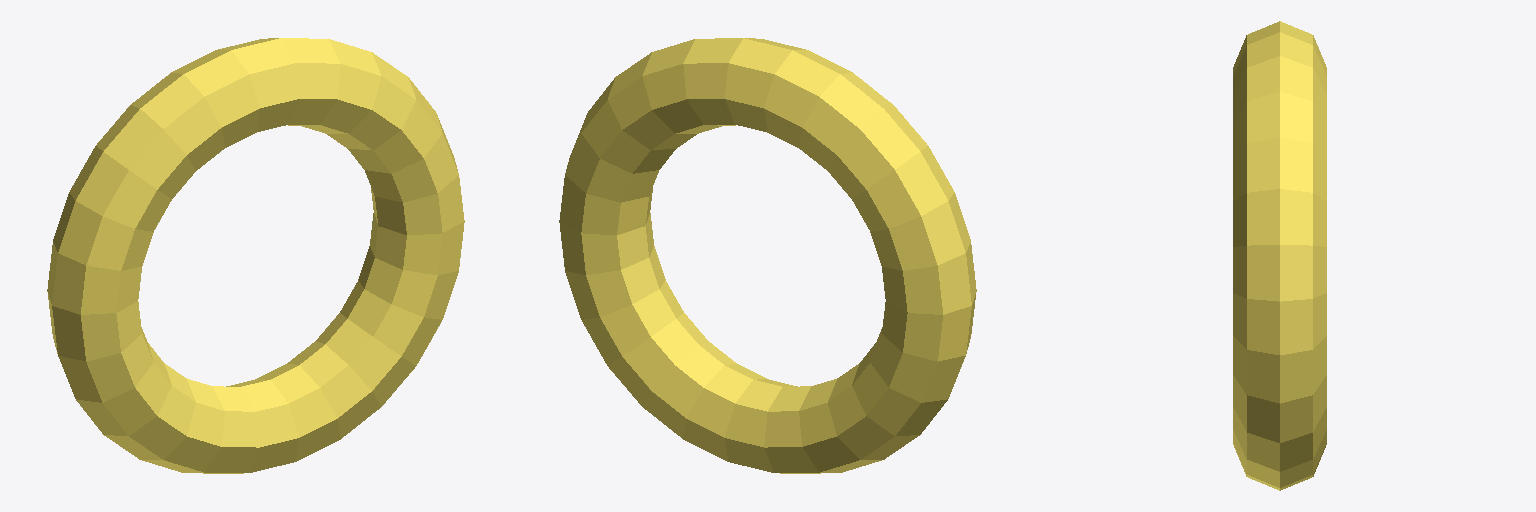
3 renders of one model, left to right at view 1: azimuth 30°, elevation 25°; view 2: azimuth 150°, elevation 25°; view 3: azimuth 270°, elevation 25°, orthographic.
Bounding box in the file's own units: 2.5 × 2.48 × 0.5.
1 materials, 1 textured.